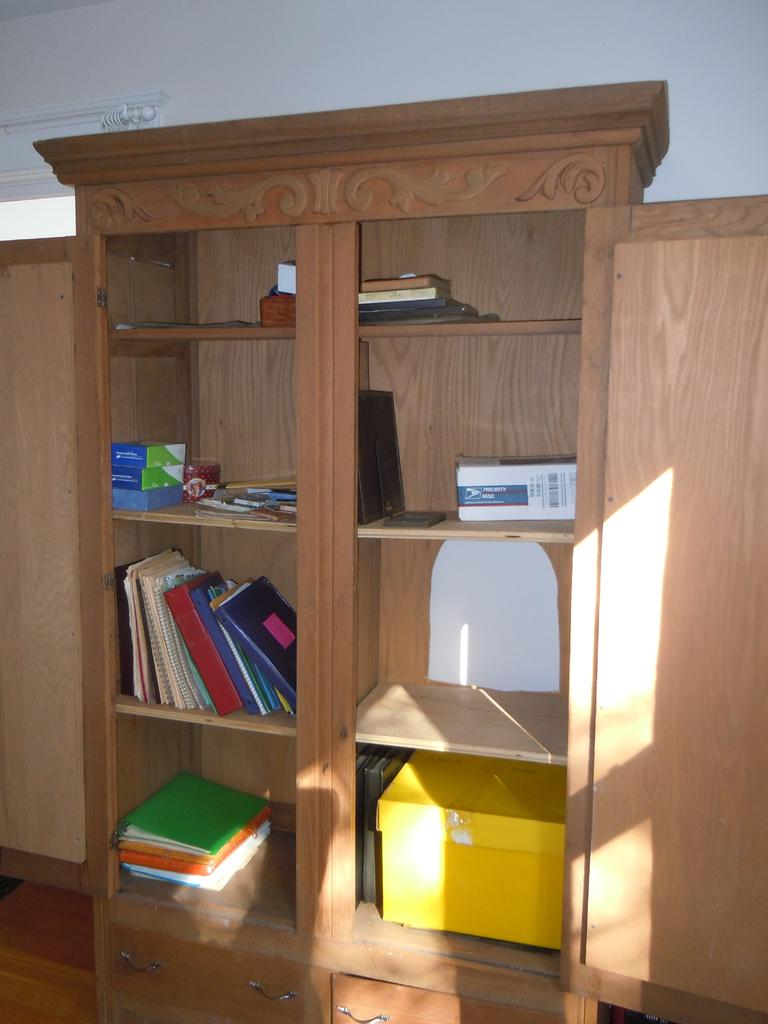cabinet_door: (615, 242, 768, 997), (5, 270, 92, 876), (111, 926, 318, 1024), (337, 980, 541, 1024)
handle: (116, 942, 170, 988), (246, 973, 302, 1011), (334, 994, 390, 1024)
